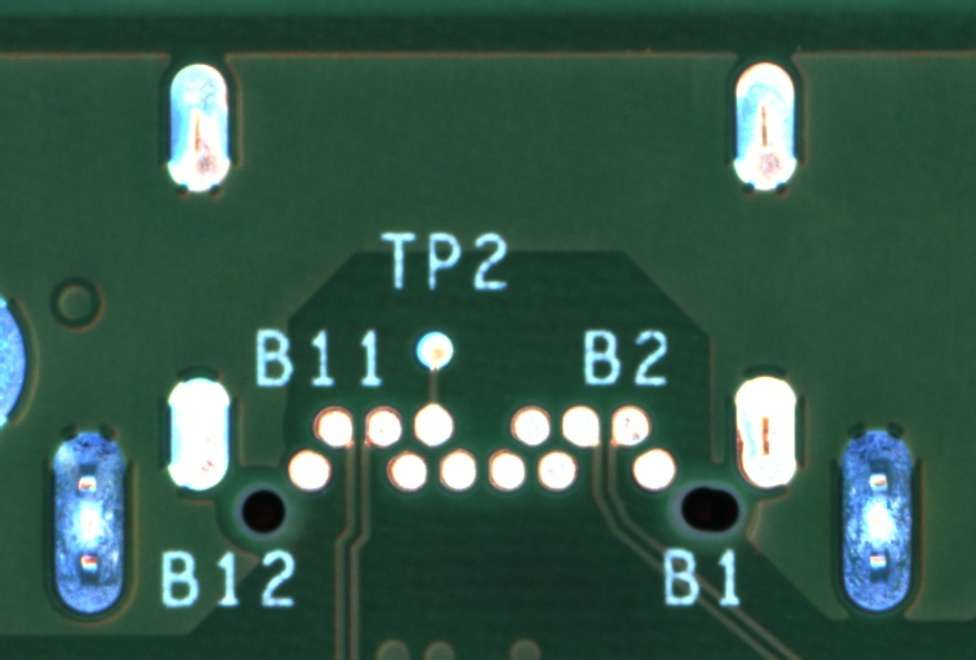SOLDER: (533, 448, 580, 495), (557, 402, 604, 449), (285, 447, 332, 494), (384, 447, 431, 494), (483, 448, 530, 495), (359, 402, 406, 448), (630, 446, 677, 492), (607, 402, 654, 448), (506, 401, 553, 447), (410, 401, 457, 447), (435, 447, 481, 494), (311, 403, 357, 449)
SOLDER2: (42, 423, 136, 621), (831, 417, 925, 615), (723, 48, 805, 208), (724, 352, 806, 512), (157, 353, 239, 513), (156, 50, 238, 210)
